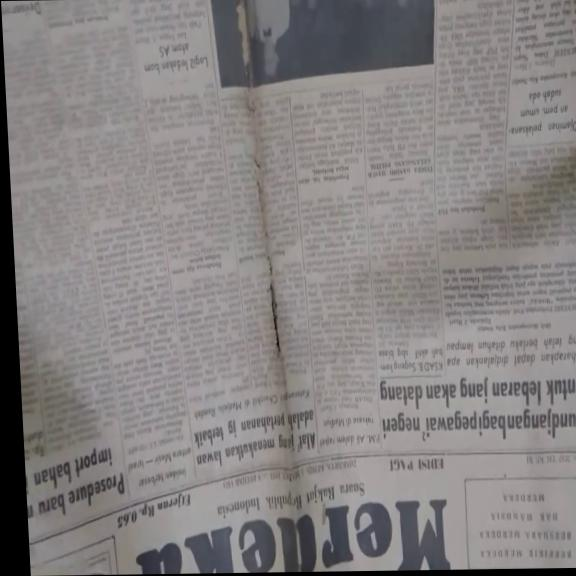Kertas: (4, 3, 298, 571), (250, 0, 576, 468), (24, 337, 576, 555), (428, 183, 576, 446)
